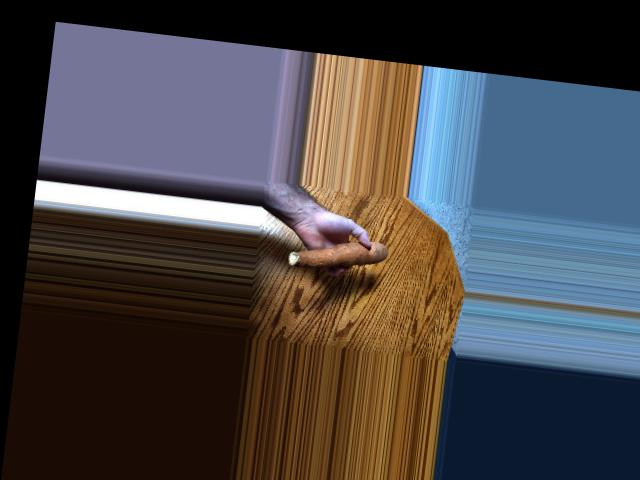sweet_potato: (283, 237, 393, 276)
